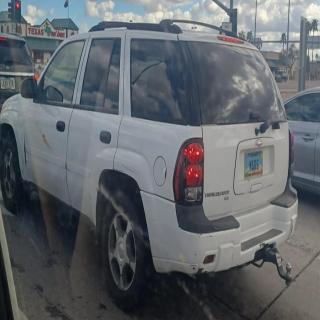license: (245, 149, 264, 181)
